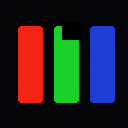1 square: (62, 21, 80, 39)
